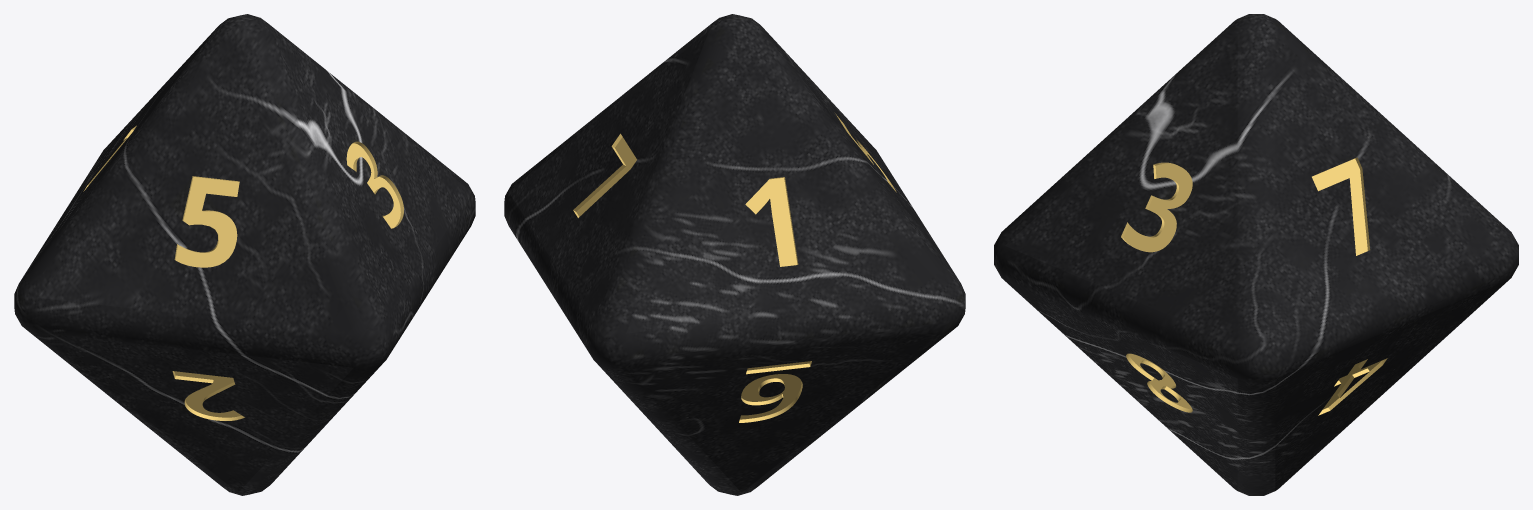
The picture shows the model from 3 angles, left to right: view 1: azimuth 30°, elevation 25°; view 2: azimuth 150°, elevation 25°; view 3: azimuth 270°, elevation 25°; orthographic projection.
Visible parts, largest first — view 1: body.001; view 2: body.001; view 3: body.001.
Boxes of the visible parts, x1=… form: body.001: x1=14, y1=14, x2=475, y2=495; body.001: x1=504, y1=14, x2=965, y2=495; body.001: x1=994, y1=14, x2=1518, y2=495.
Size of the model in its own units: 0.9066 by 0.9066 by 0.9066.
2 materials, 1 textured.
